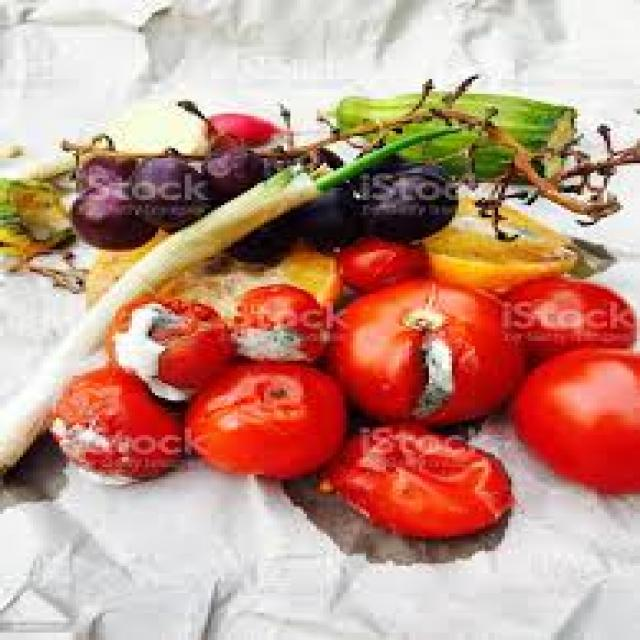organic waste: (0, 124, 452, 472), (82, 220, 340, 336), (330, 274, 521, 425), (327, 89, 570, 178), (327, 423, 511, 536), (508, 346, 637, 492), (182, 361, 346, 474), (50, 361, 182, 479), (429, 193, 567, 294), (103, 294, 225, 390), (501, 267, 637, 351), (0, 158, 82, 279), (221, 277, 323, 358), (66, 178, 155, 242), (330, 234, 425, 292), (363, 173, 449, 237), (290, 178, 363, 249), (132, 158, 211, 220), (221, 210, 287, 262), (201, 141, 264, 188), (191, 109, 277, 143), (267, 141, 343, 168), (370, 156, 442, 183), (66, 154, 122, 180), (0, 146, 20, 158)
